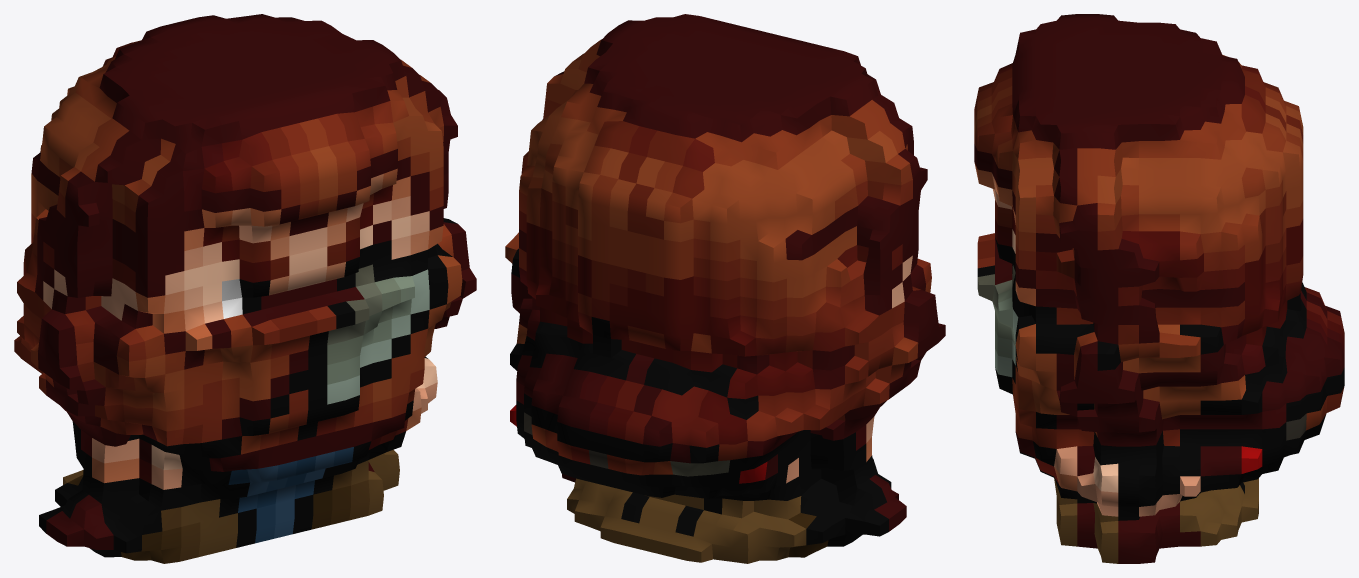
The model's file is Icon_016_02.obj.
The picture shows the model from 3 angles, left to right: view 1: azimuth 30°, elevation 25°; view 2: azimuth 150°, elevation 25°; view 3: azimuth 270°, elevation 25°; orthographic projection. The views are drawn at different scales.
Bounding box in the file's own units: 2.2 × 2.3 × 1.8.
Materials: 1 (1 with a texture image).
